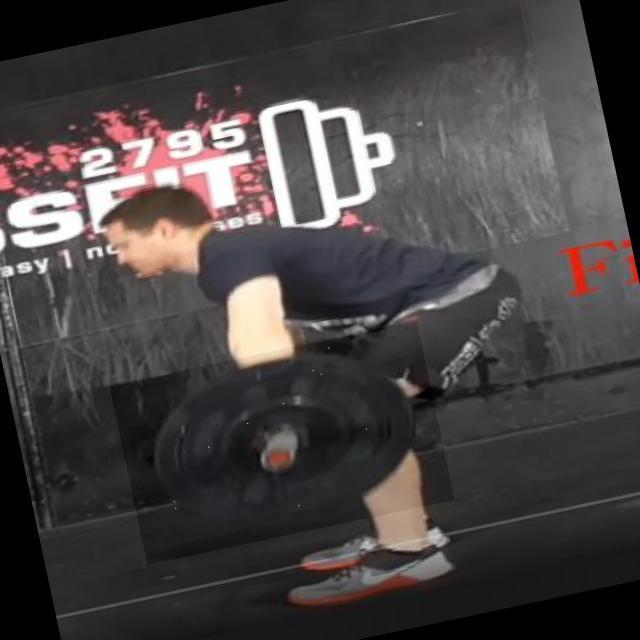barbell: (111, 321, 456, 565)
